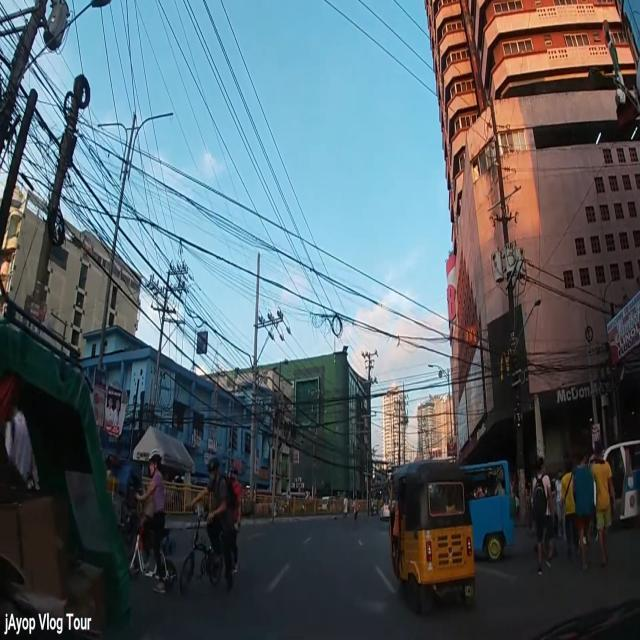bike: (179, 456, 235, 591), (128, 450, 178, 594)
car: (380, 502, 390, 520)
tricycle: (0, 273, 132, 640), (391, 460, 476, 610), (459, 458, 513, 562), (601, 439, 640, 529), (368, 498, 379, 517)
